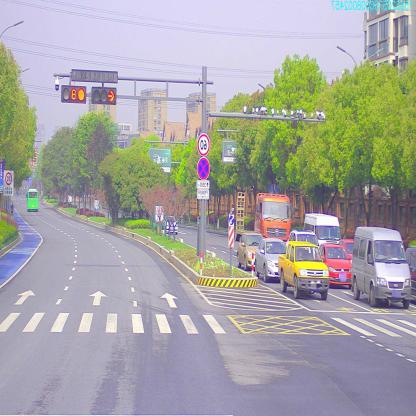traffic-light: (60, 86, 86, 106), (92, 89, 115, 104)
